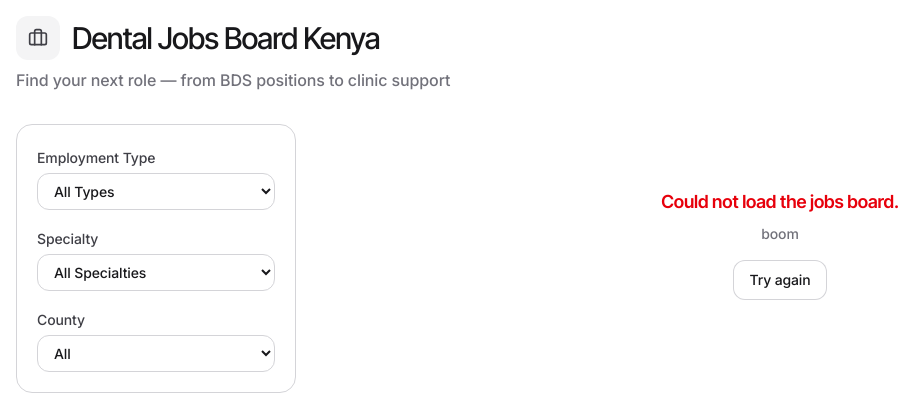
Test: JobsBoard › shows an error state with a retry when the board request fails
The image size is (915, 412).
Expected: the message shows "Could not load the jobs board", [661,191,899,212]
Click the button "Try again" at (780, 280), box [734,260,826,300]
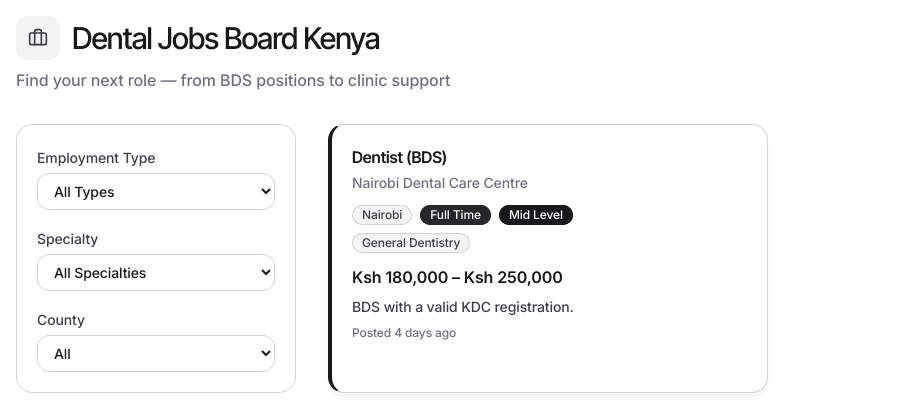
Result: the heading "Dentist (BDS)" is shown at [352,147,447,167]
